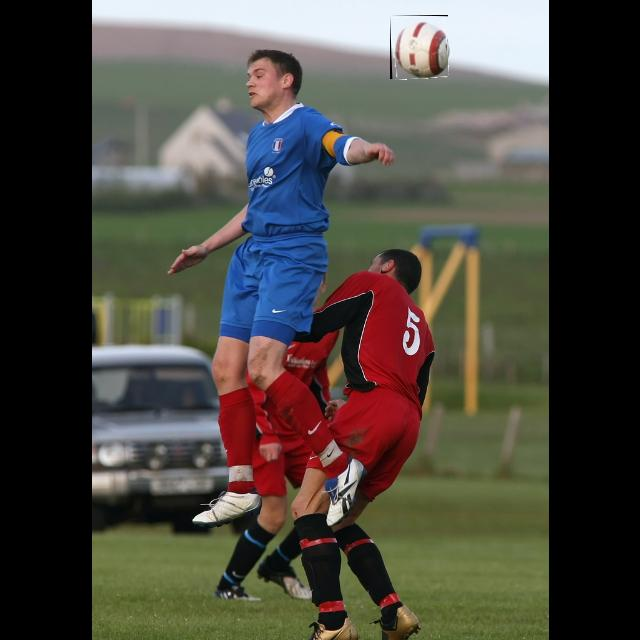Football: (390, 15, 448, 79)
